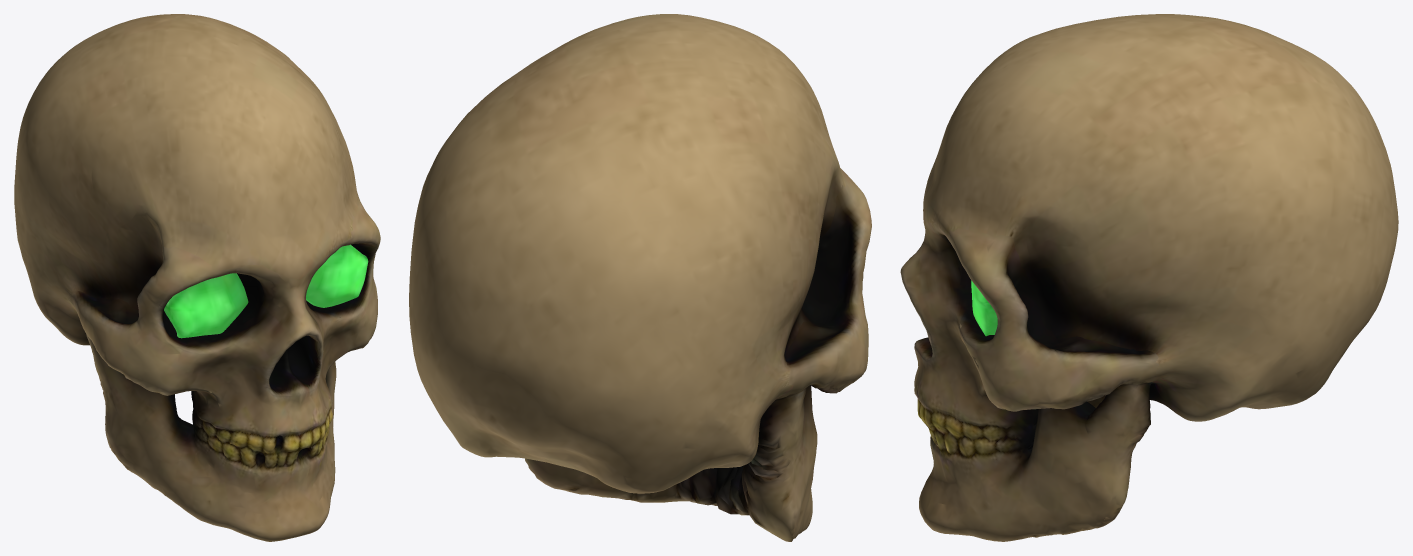
File: MZ4250 - Demilich.glb
3 renders of one model, left to right at view 1: azimuth 30°, elevation 25°; view 2: azimuth 150°, elevation 25°; view 3: azimuth 270°, elevation 25°, orthographic. The views are drawn at different scales.
Parts seen in each view (by area): view 1: Cylinder.005; view 2: Cylinder.005; view 3: Cylinder.005.
Part boxes in pixels (x1,y1,x2,y2): Cylinder.005: (14,14,380,541); Cylinder.005: (409,14,871,541); Cylinder.005: (900,14,1398,541).
Bounding box in the file's own units: 0.1884 × 0.2876 × 0.2649.
Materials: 1 (1 with a texture image).
